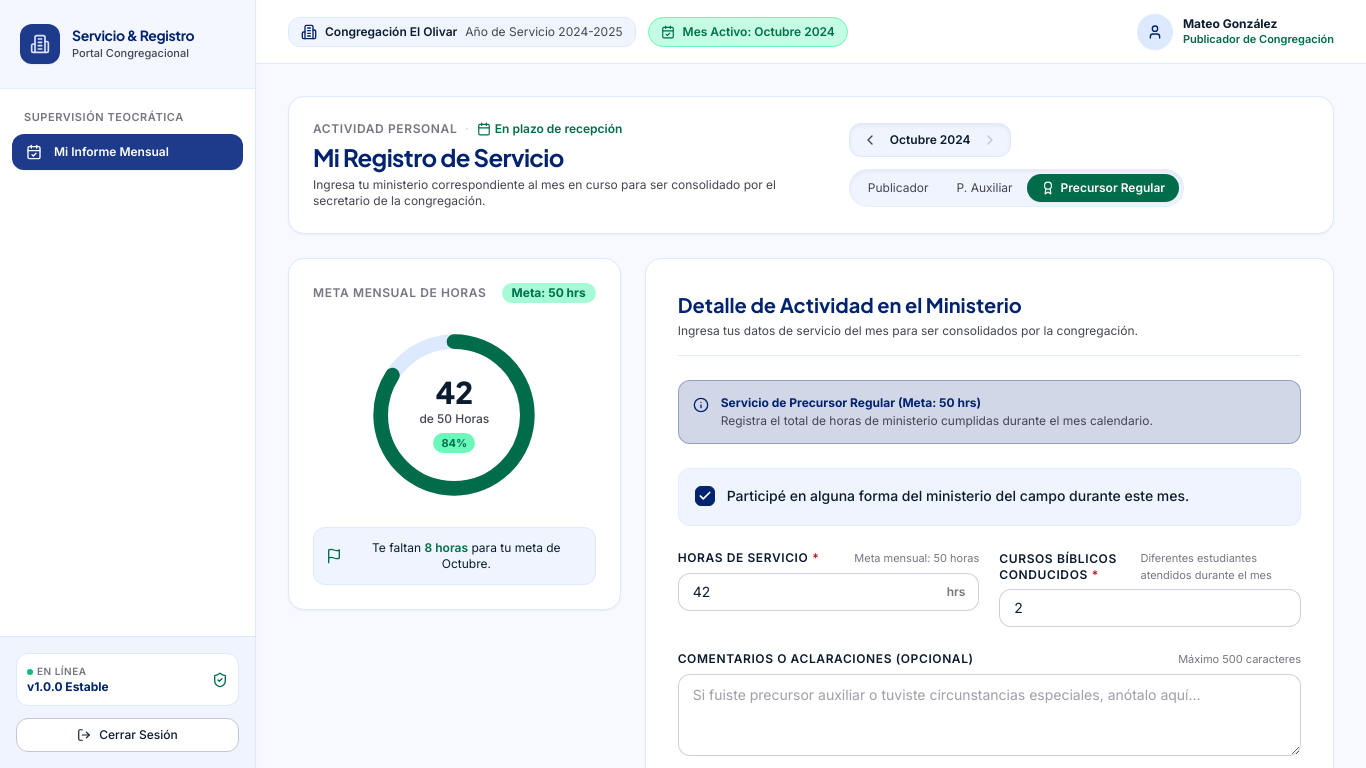
Test: App root with complete navigation, auth and Atomic Design pages › al iniciar sesión como Carlos Méndez (encargado), solo accede a Mi Informe y Grupos de Servicio
# Cerrar sesión
Step 1. Click the button "Cerrar Sesión" → x=128, y=735, box [16,718,239,752]
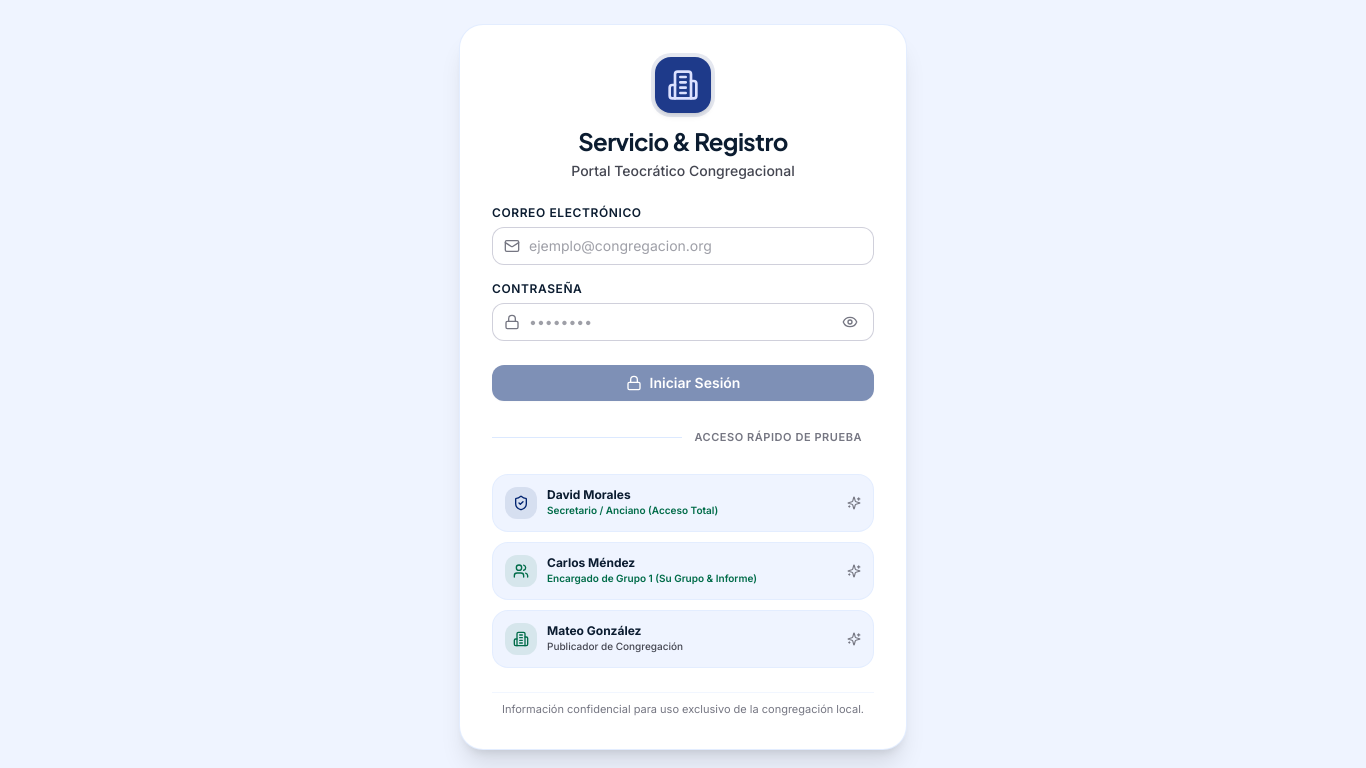
# Iniciar sesión como Carlos Méndez (Encargado)
Step 2. Click the text "Carlos Méndez" → x=591, y=562, box [547,555,635,570]
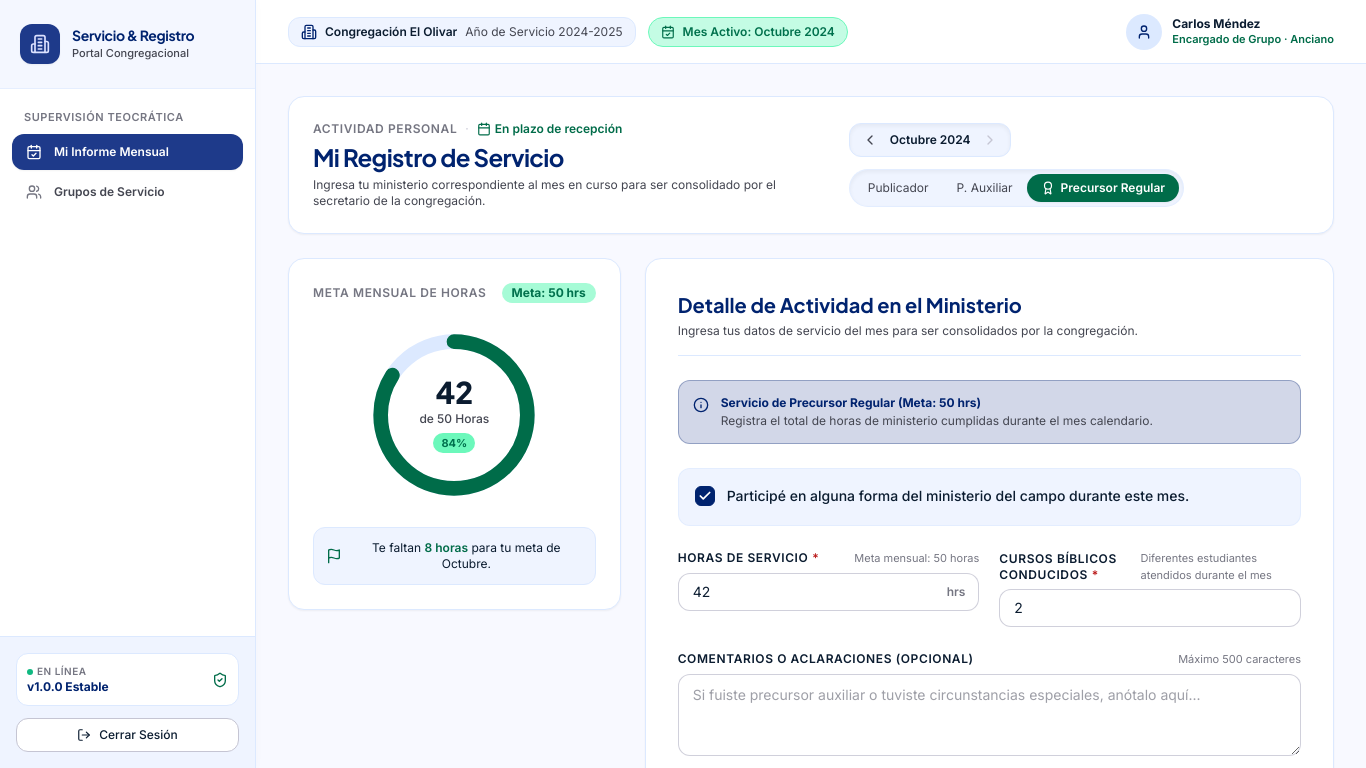
Check: the button "Mi Informe Mensual" is shown, box [12,134,243,170]
Check: the button "Grupos de Servicio" is shown
# Al navegar a Grupos de Servicio, solo ve su grupo y no puede crear grupos
Step 3. Click the button "Grupos de Servicio" → x=128, y=192, box [12,174,243,210]
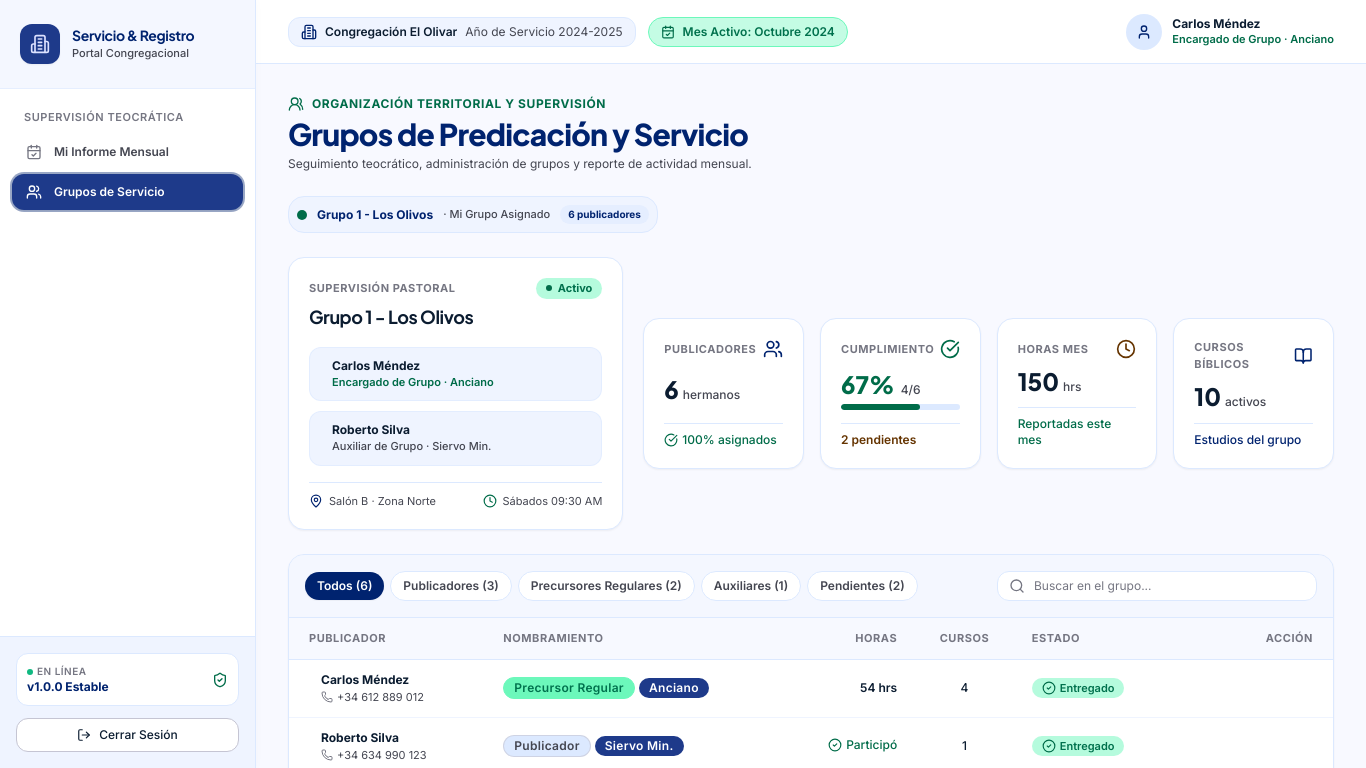
Check: the heading "Grupos de Predicación y Servicio" is shown, box [288,116,752,152]
Check: the text "· Mi Grupo Asignado" is shown, box [443,206,550,223]
